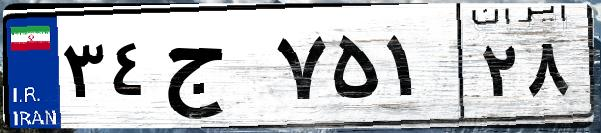1: (385, 28, 445, 110)
2: (475, 38, 525, 113)
3: (57, 26, 110, 100)
4: (110, 28, 158, 98)
5: (330, 28, 385, 110)
7: (270, 28, 330, 110)
8: (525, 38, 570, 115)
ج: (158, 20, 270, 120)
